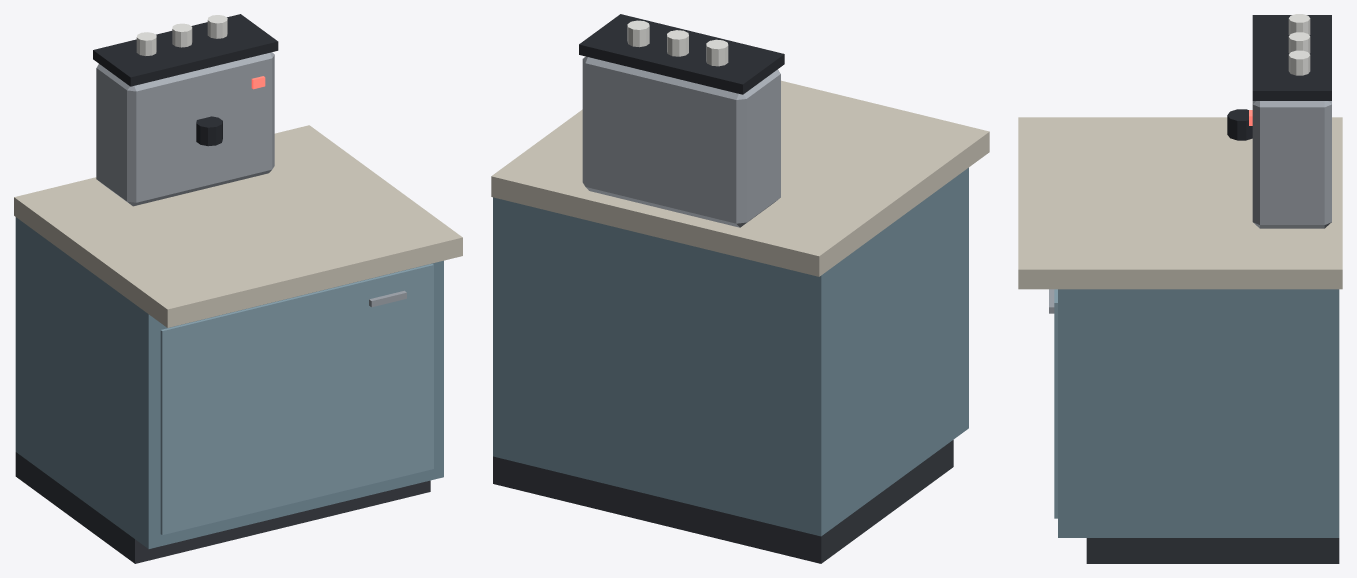
File: counter_coffee.glb
3 renders of one model, left to right at view 1: azimuth 30°, elevation 25°; view 2: azimuth 150°, elevation 25°; view 3: azimuth 270°, elevation 25°, orthographic. The views are drawn at different scales.
Parts seen in each view (by area): view 1: counter_coffee_mesh; view 2: counter_coffee_mesh; view 3: counter_coffee_mesh.
Part boxes in pixels (x1,y1,x2,y2): counter_coffee_mesh: [14, 14, 462, 563]; counter_coffee_mesh: [491, 14, 989, 563]; counter_coffee_mesh: [1018, 14, 1342, 563].
Size of the model in its own units: 1 by 1.38 by 0.9.
